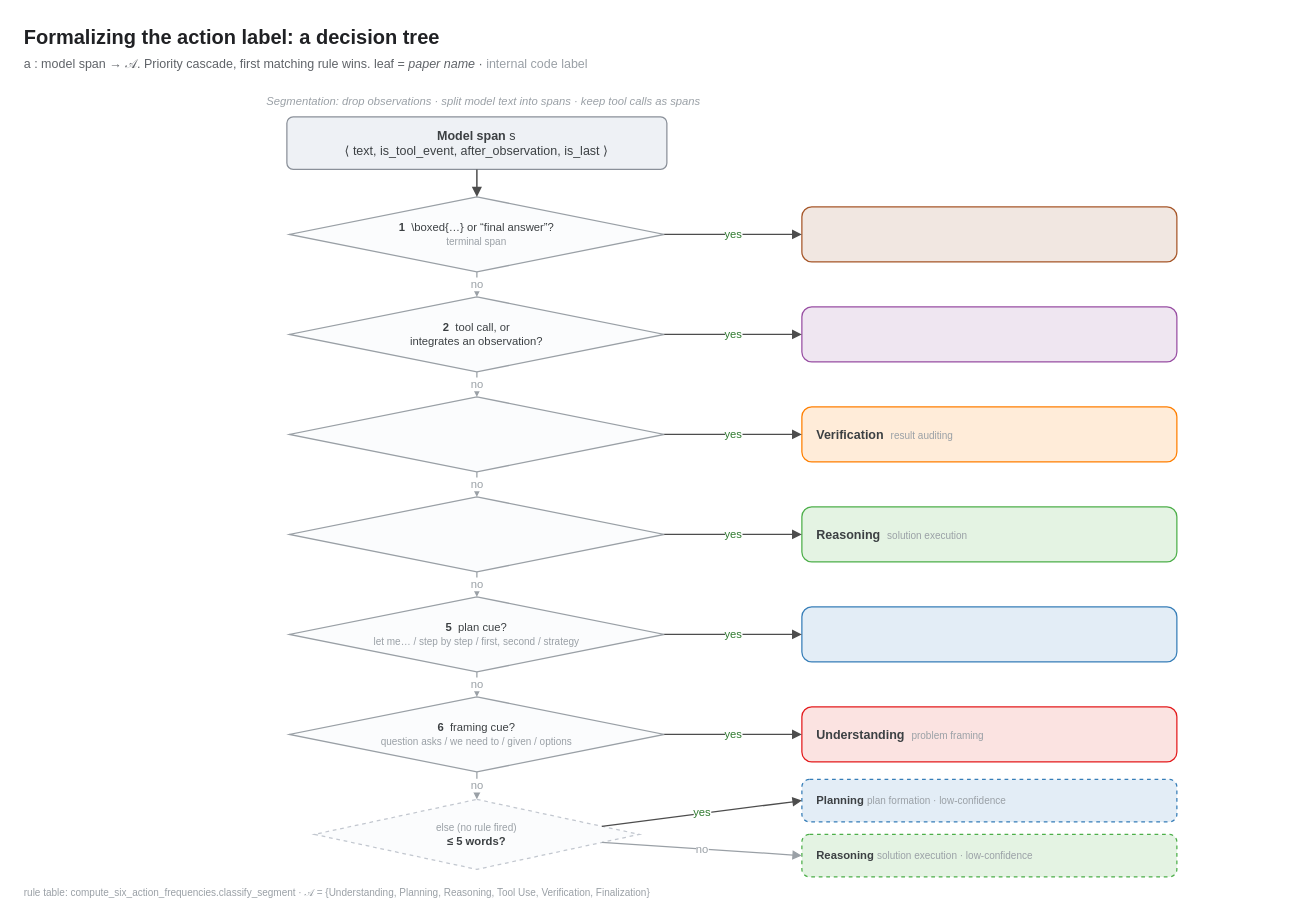
Some shapes in this 1293 by 921 pixel diagram are drawn without their labels. Each missing label, with the centre of its shape:
3 audit cue & no computation? check / verify / wait / wrong / reconsider: pixel 476 434
4 computation cue? = , ∵ , compute / derive / option X: pixel 476 534
Finalization answer delivery: pixel 989 234
Planning plan formation: pixel 989 634
Tool Use tool grounding: pixel 989 334
